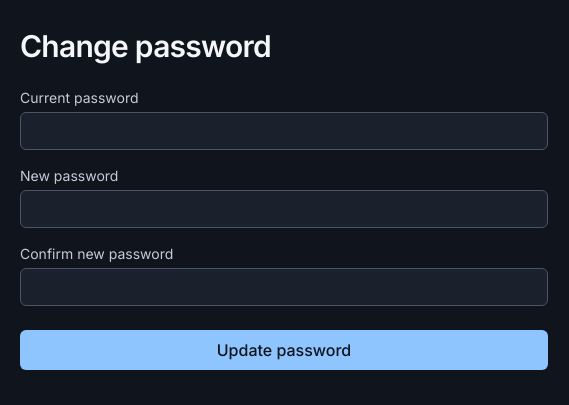
Test: ChangePasswordForm › shows the API error when the current password is wrong
Step 1. Type "wrong-password-1" into the password field labelled "Current password" → (284, 131), box top-left (20, 112), bottom-right (548, 150)
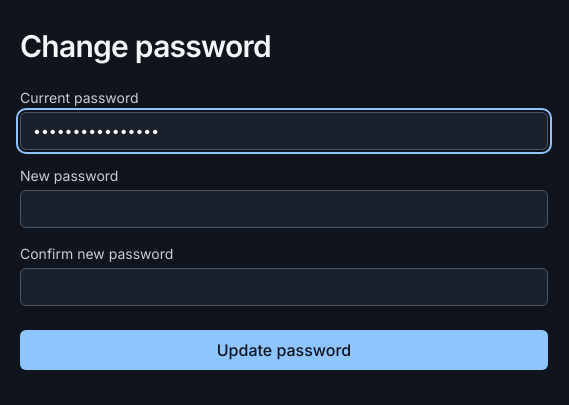
Step 2. Type "correct-horse-battery" into the password field labelled "New password" → (284, 209), box top-left (20, 190), bottom-right (548, 228)
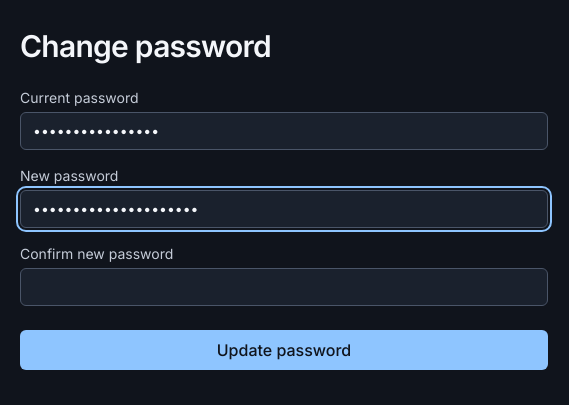
Step 3. Type "correct-horse-battery" into the password field labelled "Confirm new password" → (284, 287), box top-left (20, 268), bottom-right (548, 306)
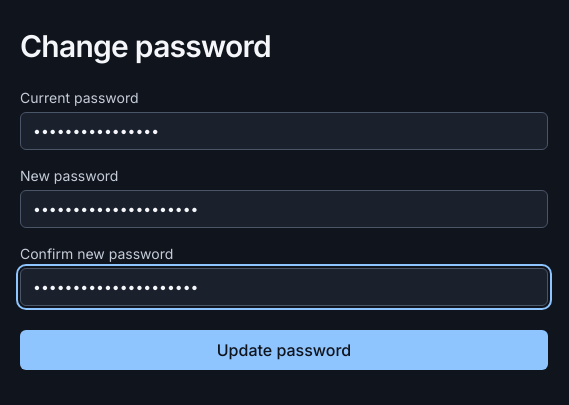
Step 4. Click the button "Update password" → (284, 350), box top-left (20, 330), bottom-right (548, 370)
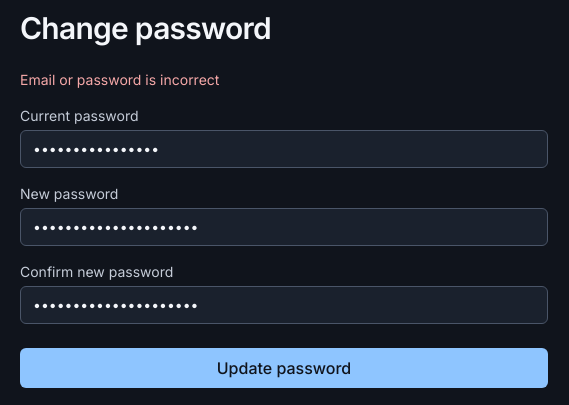
Now the message reads "Email or password is incorrect", box top-left (20, 71), bottom-right (219, 88)
